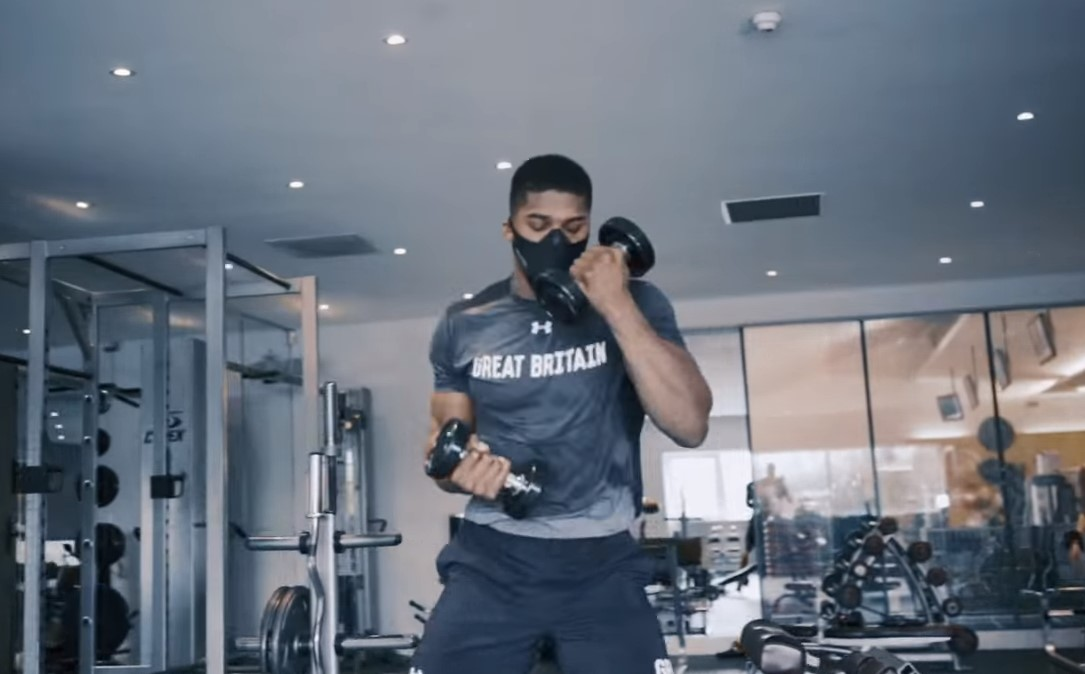face_with_mask: (503, 151, 598, 303)
